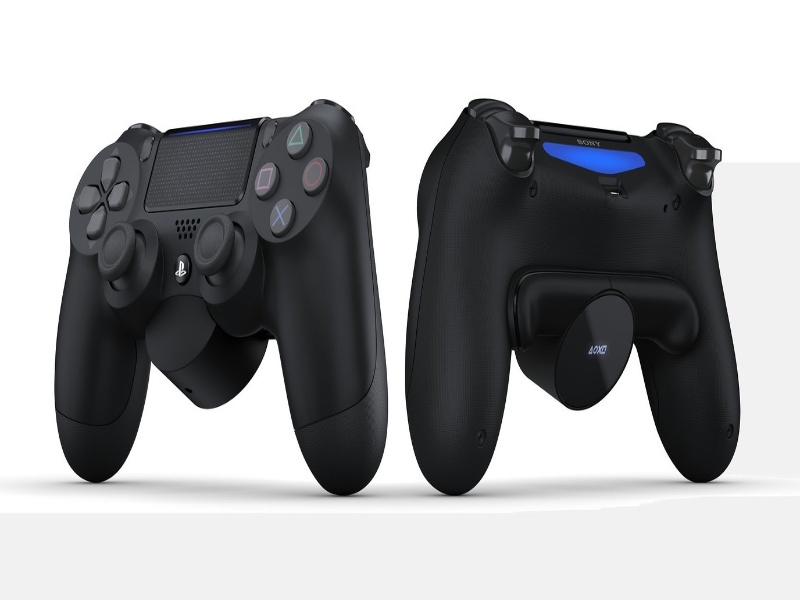ps4 joystick: (51, 102, 391, 503)
